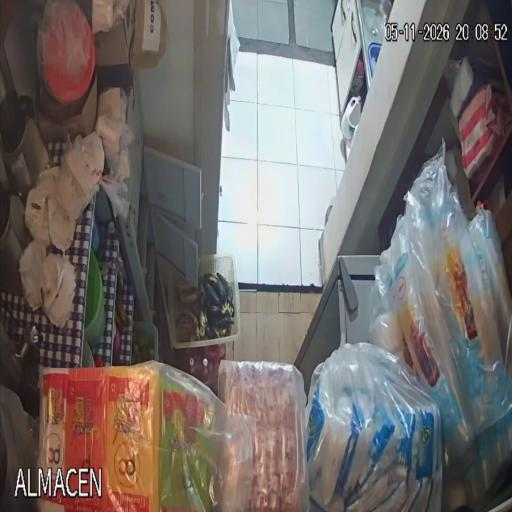Envase para platanos: (167, 255, 240, 347)
Productos culinarios: (368, 139, 512, 504), (39, 360, 253, 512), (306, 343, 442, 512), (218, 361, 309, 512)
Taper: (84, 249, 105, 347)
Taper2: (82, 340, 95, 367)
